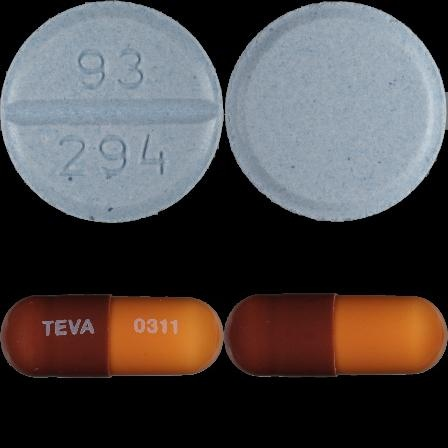0615-8011: (0, 0, 224, 224)
